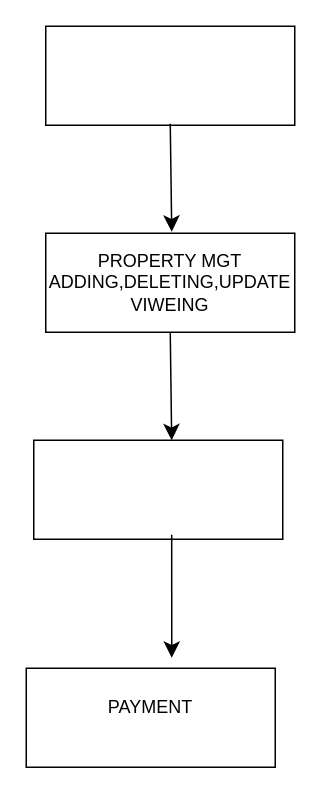
The diagram is 321 pixels wide and 794 high, and some of its shapes have lost their labels. The shapes that lost their labels are listed below. From the top down, each one's centre as x and y in pixels, then its label:
At point (169, 75): "USER AUTHENTICATION SIGN SIGN UP LOGOUT".
At point (157, 489): "BOOKING, RESERVATION,SEARCHING CHECKING AVAILABILITY".
